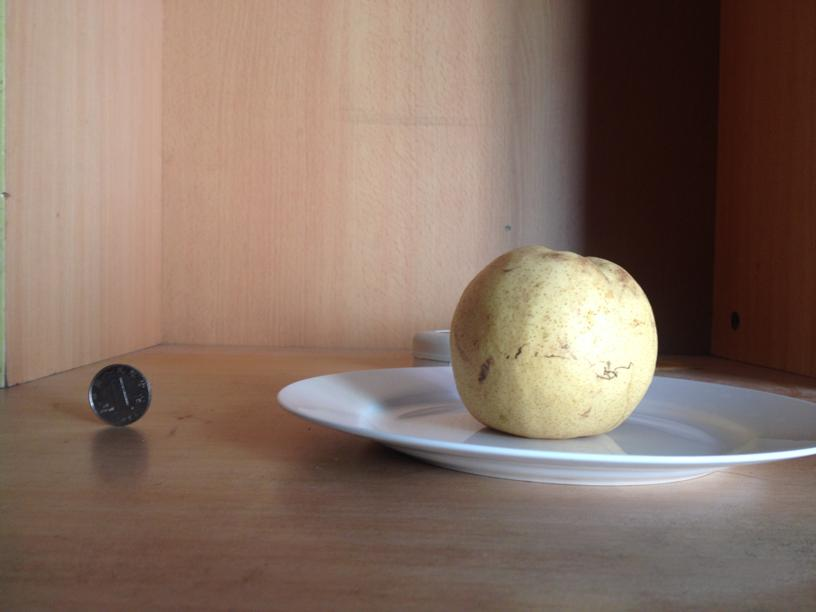coin: (87, 360, 150, 424)
pear: (447, 244, 657, 437)
